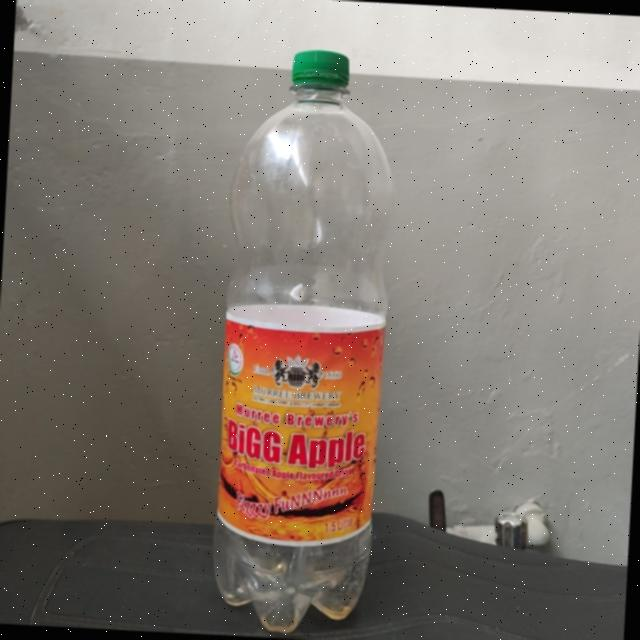bottle: (195, 39, 404, 640)
cap: (286, 42, 354, 97)
label: (202, 305, 392, 548)
